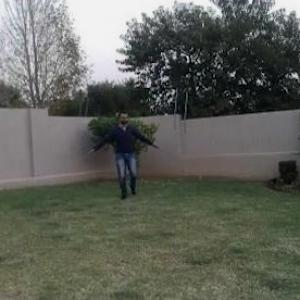land: (78, 86, 160, 216)
